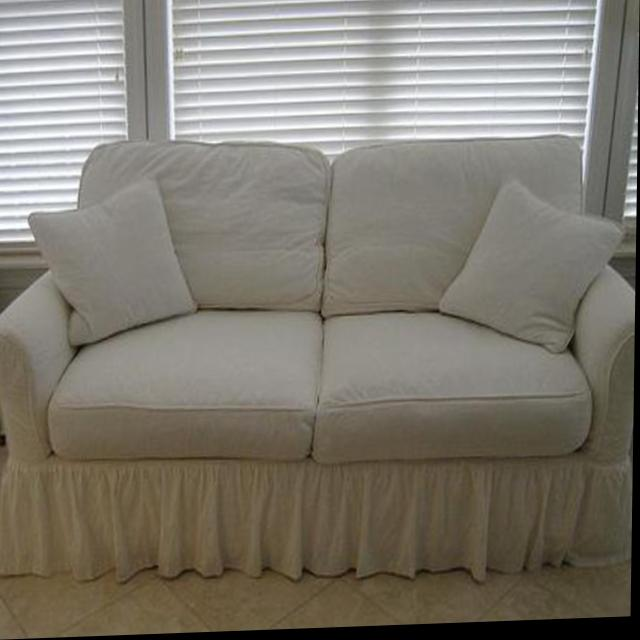Sofa: (0, 128, 638, 582)
